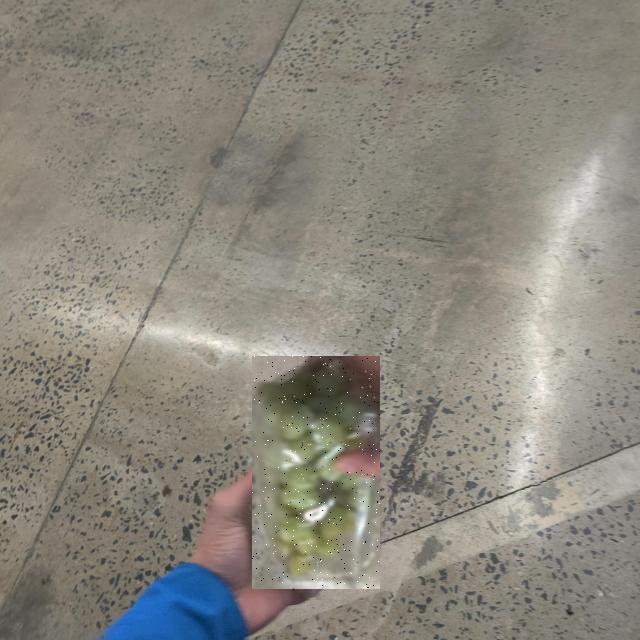Grapes: (253, 356, 381, 589)
